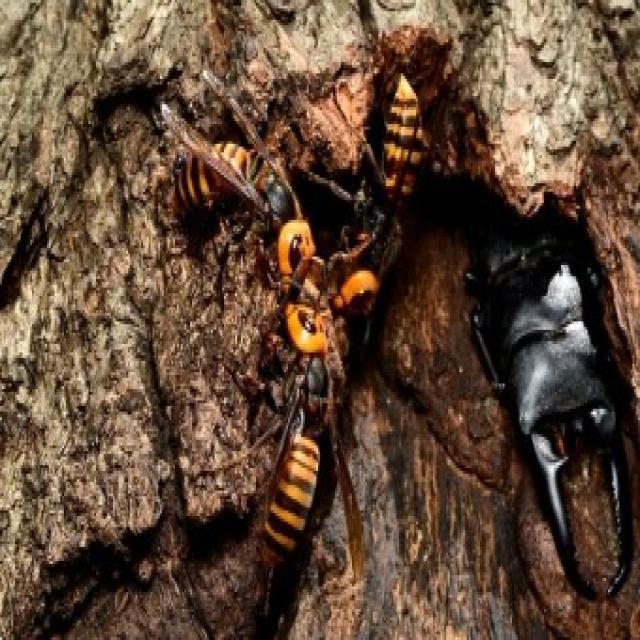Wasp: (134, 56, 314, 285), (326, 64, 422, 314), (260, 304, 337, 556)
